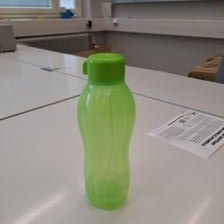bottle: (75, 54, 137, 207)
